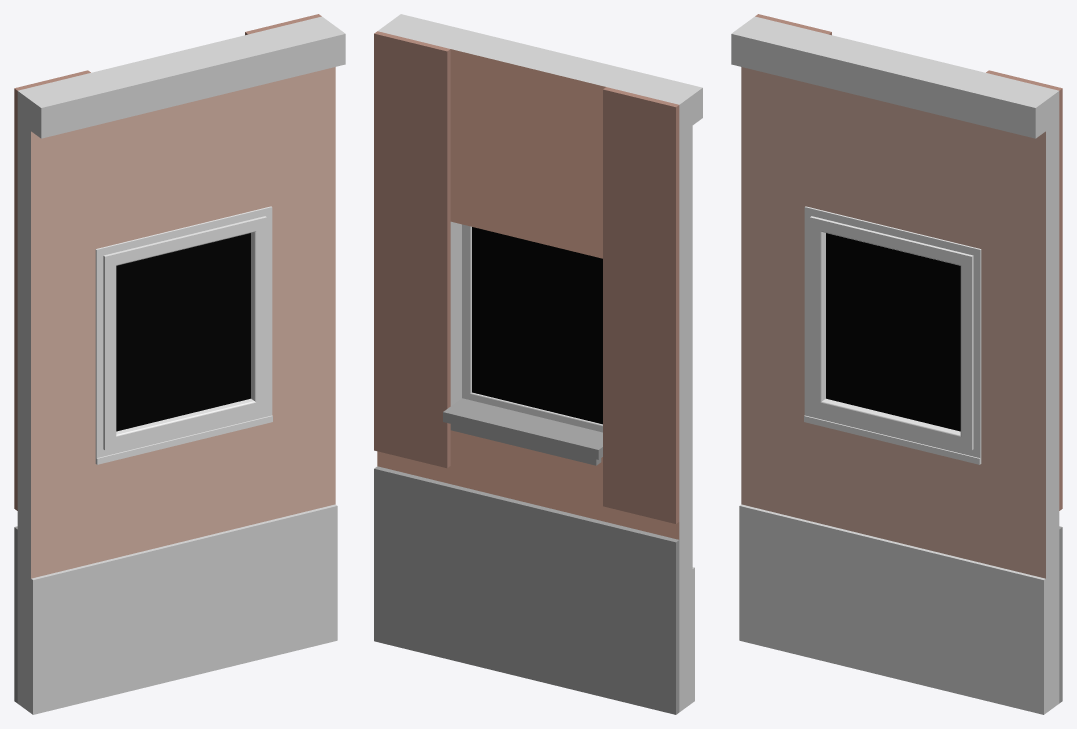
Rendered from EntranceWall_Window_Bottom.fbx.
The picture shows the model from 3 angles, left to right: view 1: azimuth 30°, elevation 25°; view 2: azimuth 150°, elevation 25°; view 3: azimuth 330°, elevation 25°; orthographic projection.
Parts seen in each view (by area): view 1: EntranceWall_Window_Bottom; view 2: EntranceWall_Window_Bottom; view 3: EntranceWall_Window_Bottom.
Boxes of the visible parts, x1,y1,x2,y2 form: EntranceWall_Window_Bottom: (14,14,345,714); EntranceWall_Window_Bottom: (374,14,702,714); EntranceWall_Window_Bottom: (731,14,1062,714).
Size of the model in its own units: 2.6 by 5 by 0.4635.
